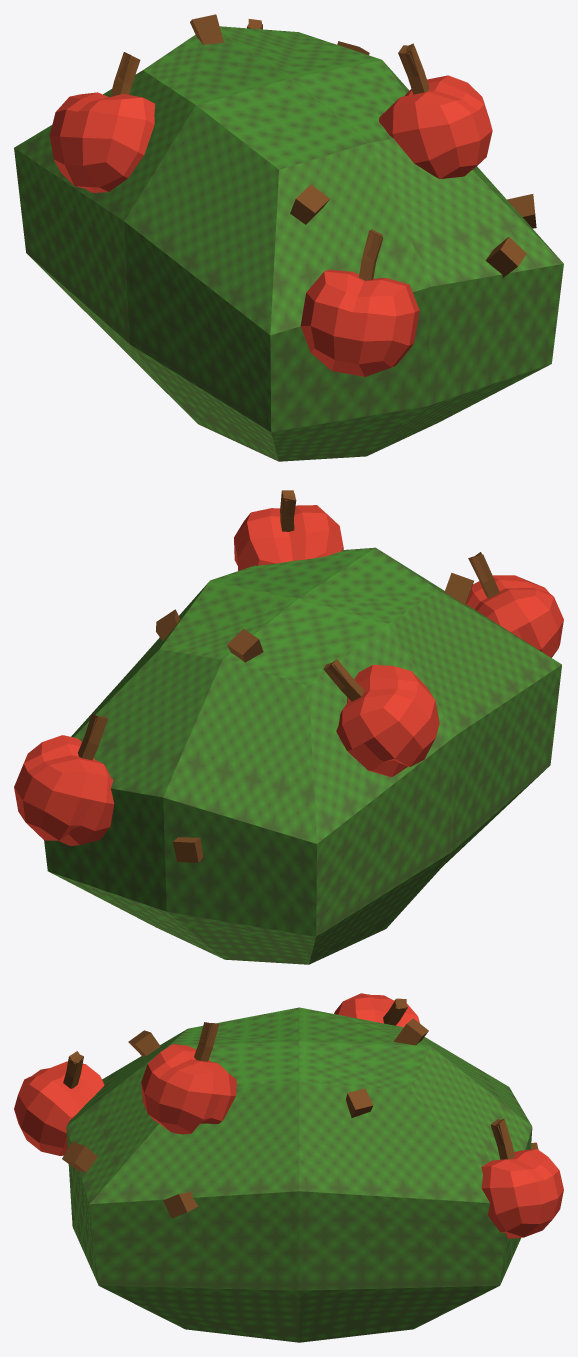
File: BuissonFRUIT.fbx
The picture shows the model from 3 angles, top to bottom: view 1: azimuth 30°, elevation 25°; view 2: azimuth 150°, elevation 25°; view 3: azimuth 270°, elevation 25°; orthographic projection. The views are drawn at different scales.
Parts seen in each view (by area): view 1: BuissonFruit; view 2: BuissonFruit; view 3: BuissonFruit.
Boxes of the visible parts, x1,y1,x2,y2 form: BuissonFruit: [14, 14, 563, 461]; BuissonFruit: [14, 490, 563, 964]; BuissonFruit: [14, 993, 563, 1342].
Bounding box in the file's own units: 446 × 475 × 719.
3 materials, 1 textured.
